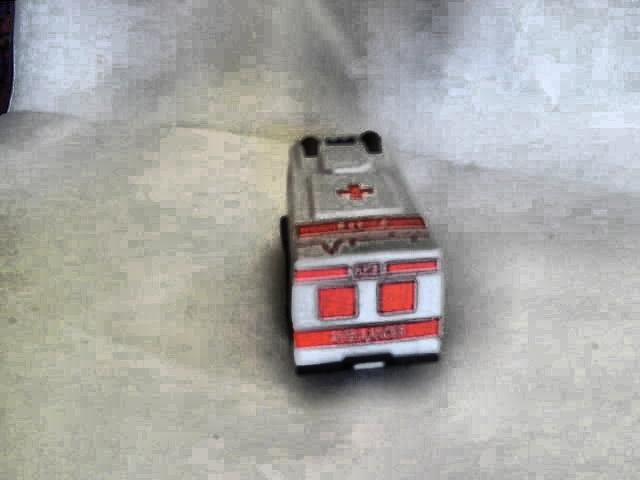ambulance: (280, 131, 442, 375)
